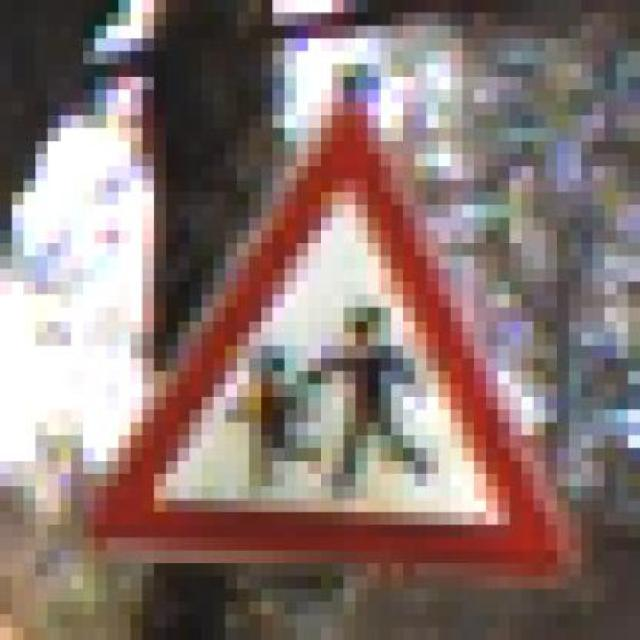Beware of children: (80, 64, 591, 588)
